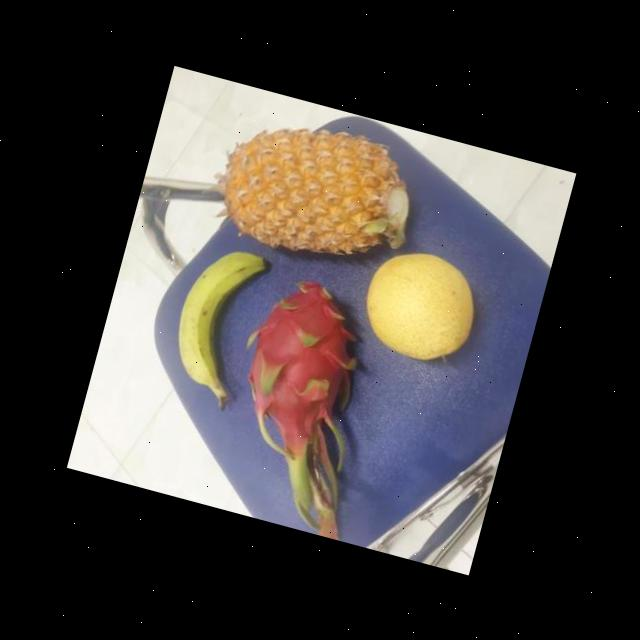banana: (163, 234, 274, 396)
pear: (354, 237, 488, 371)
pineapple: (207, 105, 426, 276)
pitaya: (224, 260, 373, 460)
